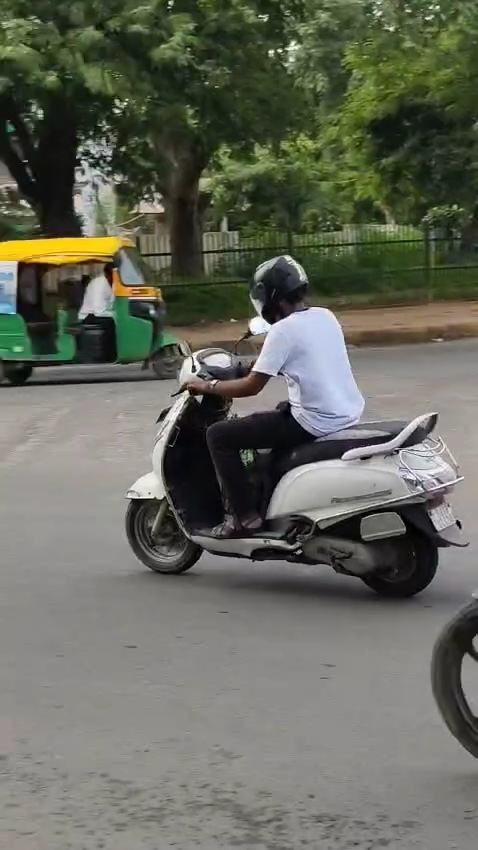BikeWithRider: (116, 245, 478, 614)
Helmet: (230, 244, 329, 336)
